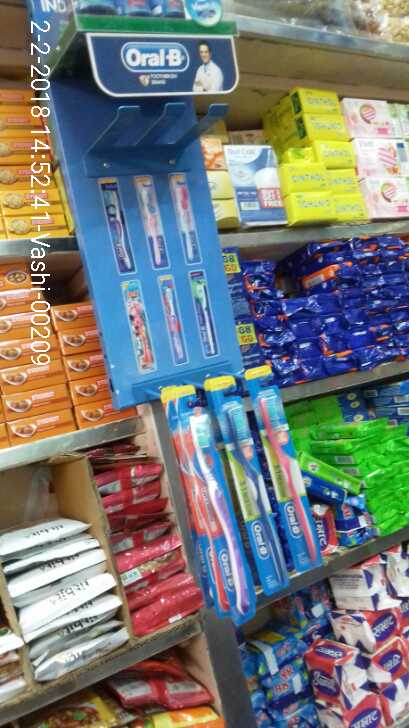oralb: (155, 365, 326, 591)
